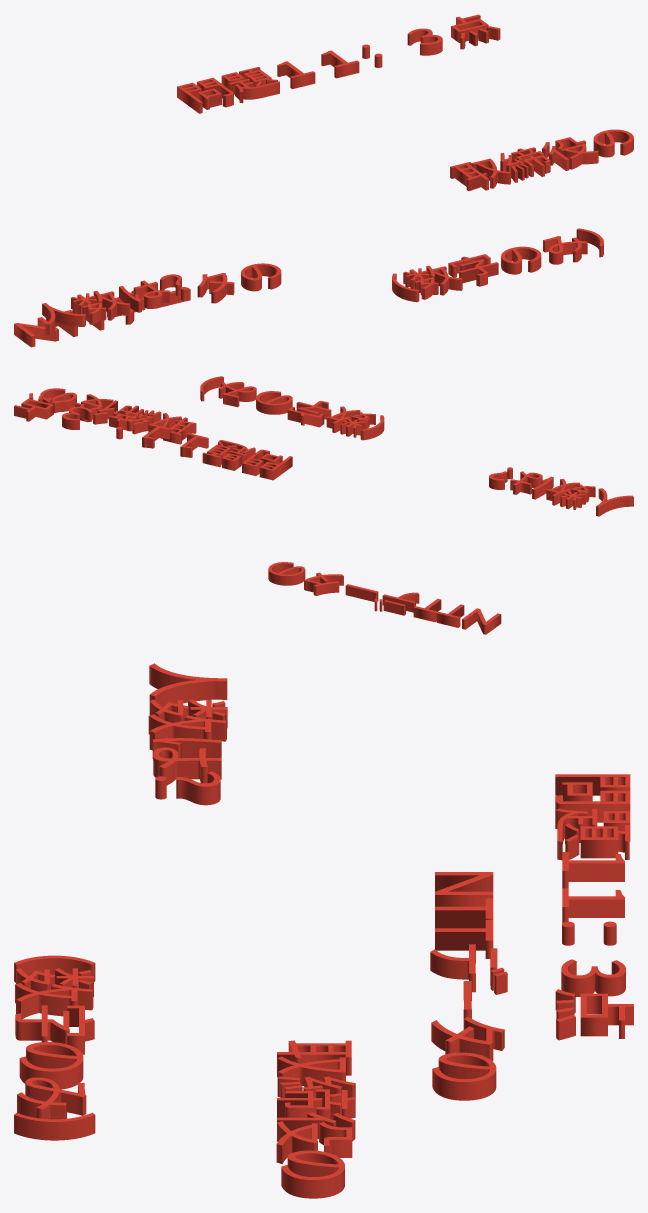
3 views of the same model, one above another, from view 1: azimuth 30°, elevation 25°; view 2: azimuth 150°, elevation 25°; view 3: azimuth 270°, elevation 25° (orthographic). The views are drawn at different scales.
Parts seen in each view (by area): view 1: テキスト.004, テキスト.003, テキスト.005, テキスト.002, テキスト.001; view 2: テキスト.004, テキスト.001, テキスト.003, テキスト.005, テキスト.002; view 3: テキスト.004, テキスト.003, テキスト.001, テキスト.005, テキスト.002.
Part boxes in pixels (x1,y1,x2,y2): テキスト.004: [177, 14, 500, 113]; テキスト.003: [392, 228, 603, 302]; テキスト.005: [450, 129, 633, 191]; テキスト.002: [42, 274, 187, 335]; テキスト.001: [14, 263, 281, 347]; テキスト.004: [14, 393, 292, 480]; テキスト.001: [268, 562, 501, 634]; テキスト.003: [200, 376, 384, 440]; テキスト.005: [40, 388, 196, 444]; テキスト.002: [489, 467, 633, 516]; テキスト.004: [555, 774, 633, 1040]; テキスト.003: [14, 955, 95, 1140]; テキスト.001: [430, 872, 507, 1100]; テキスト.005: [276, 1040, 355, 1198]; テキスト.002: [148, 663, 227, 805].
Size of the model in its own units: 14.39 by 3.66 by 7.26.
